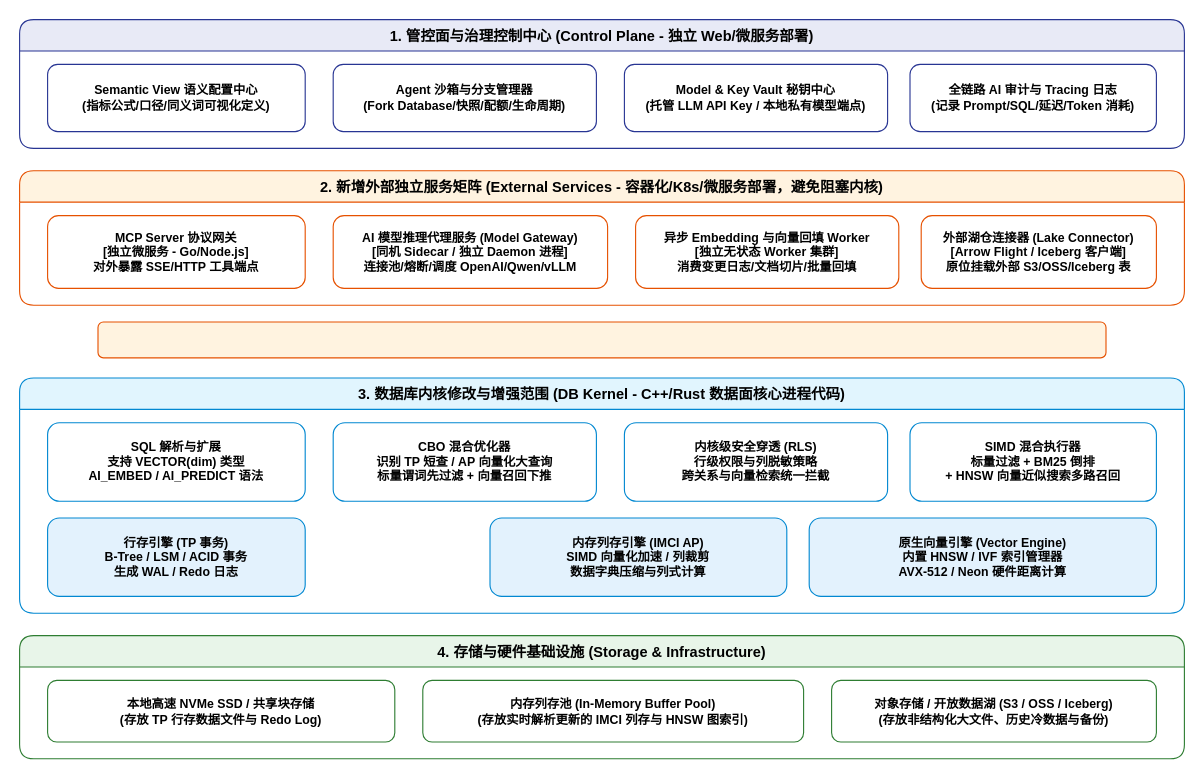
Some shapes in this 1204 by 778 pixel diagram are drawn without their labels. The shapes that lost their labels are listed below. From the top down, each one's centre as x and y in pixels, then its label:
At point 601,339: "进程间通信通道：UDS (Unix Domain Socket) / 共享内存 IPC / gRPC 高速连接 ── 传递 SQL 算子调用与日志流".
At point 397,556: "内核流式同步管道 Redo 解析 ──> 内存列存 (零 ETL 内存复制)".
